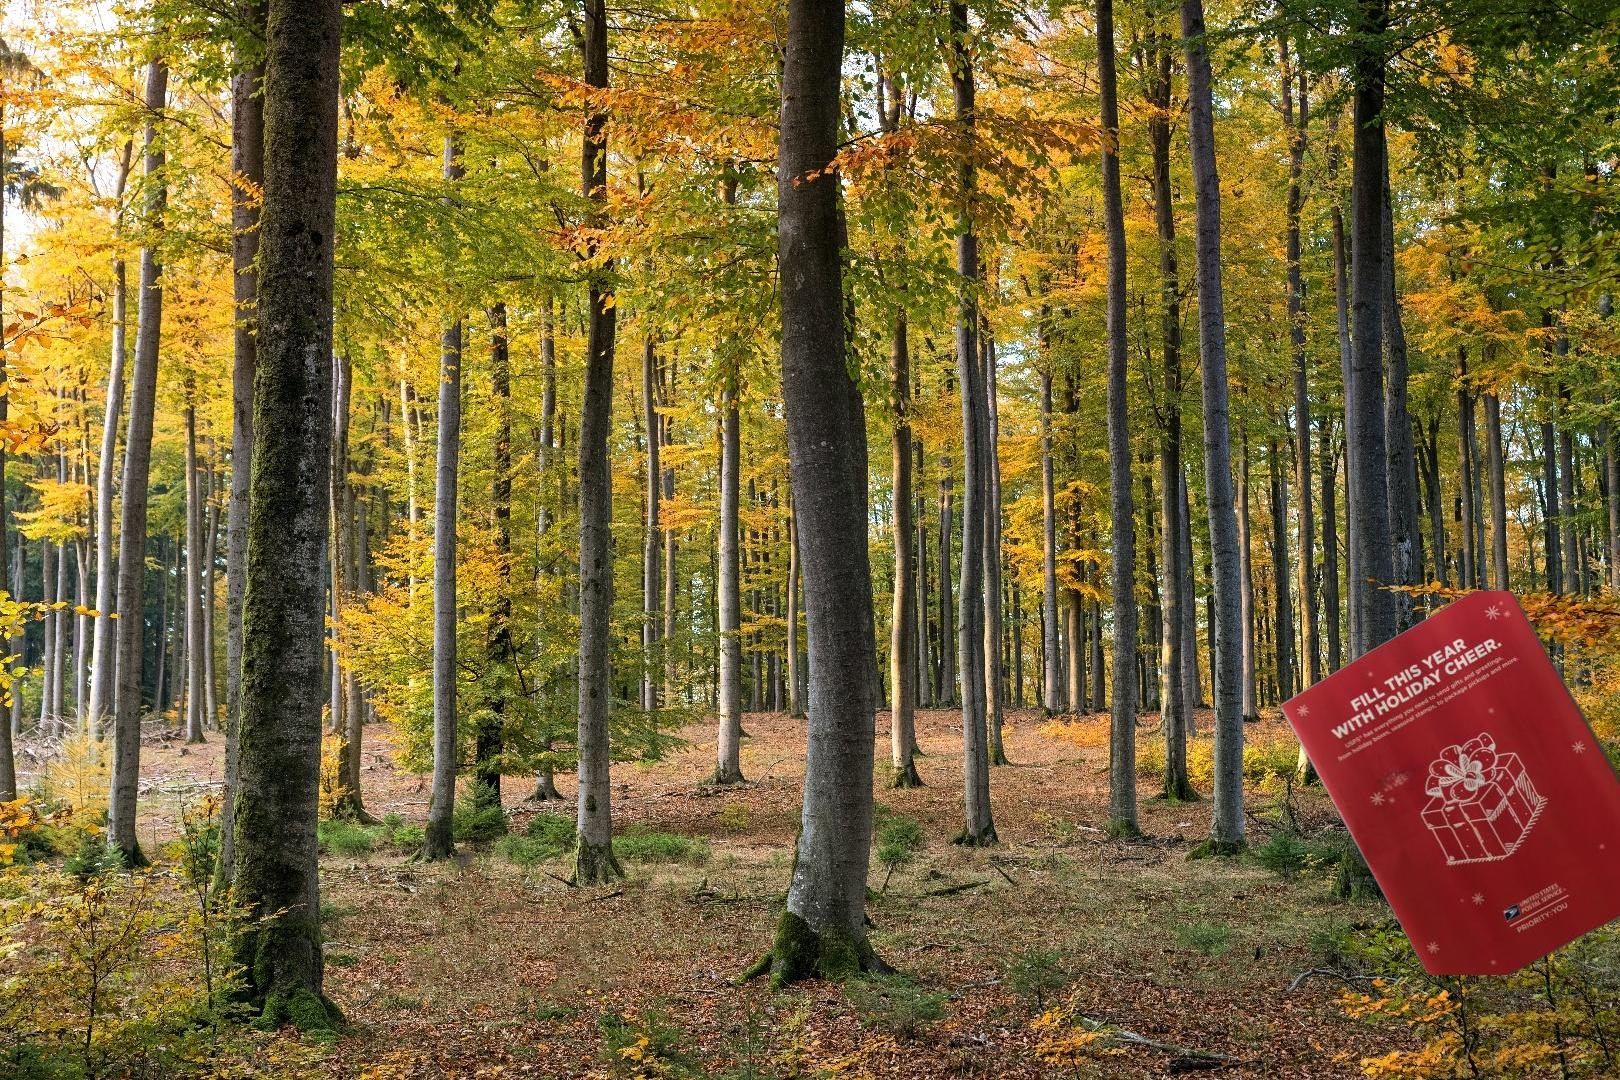paper: (1275, 591, 1620, 975)
